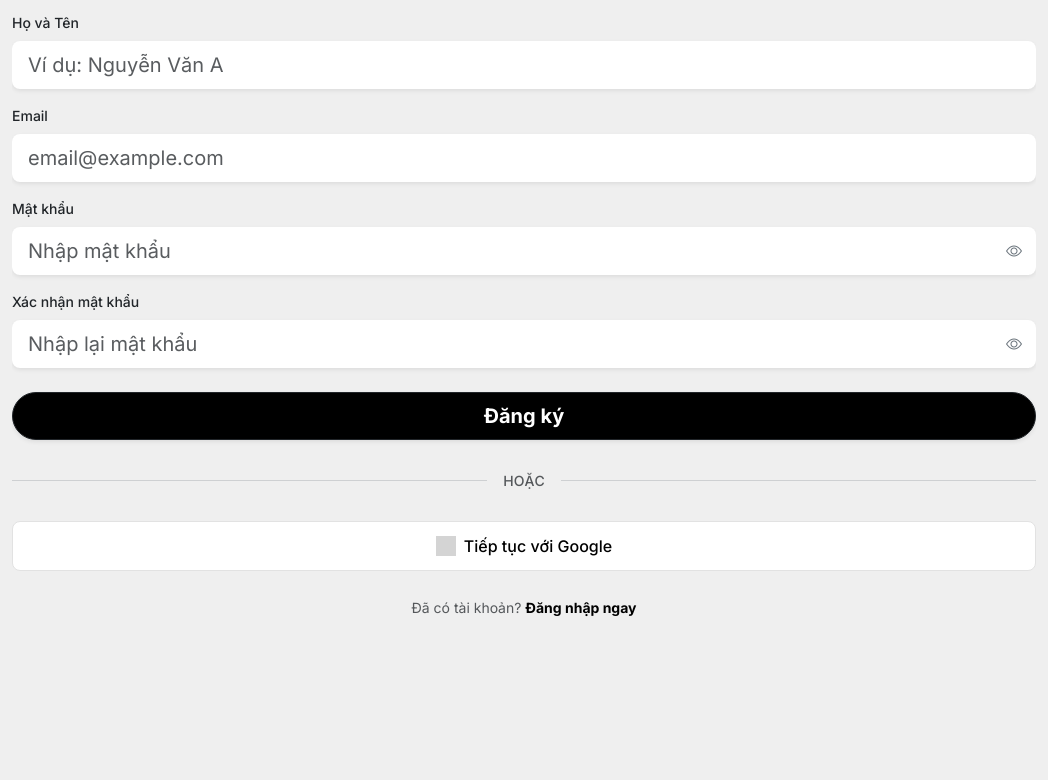
Scenario: RegisterForm Component › handles registration failure with generic error (AUTH_REG_001)
This screenshot has width=1048, height=780.
Type "Test User" into the field with test id "fullname-input" at (524, 65), box [12, 41, 1036, 89]
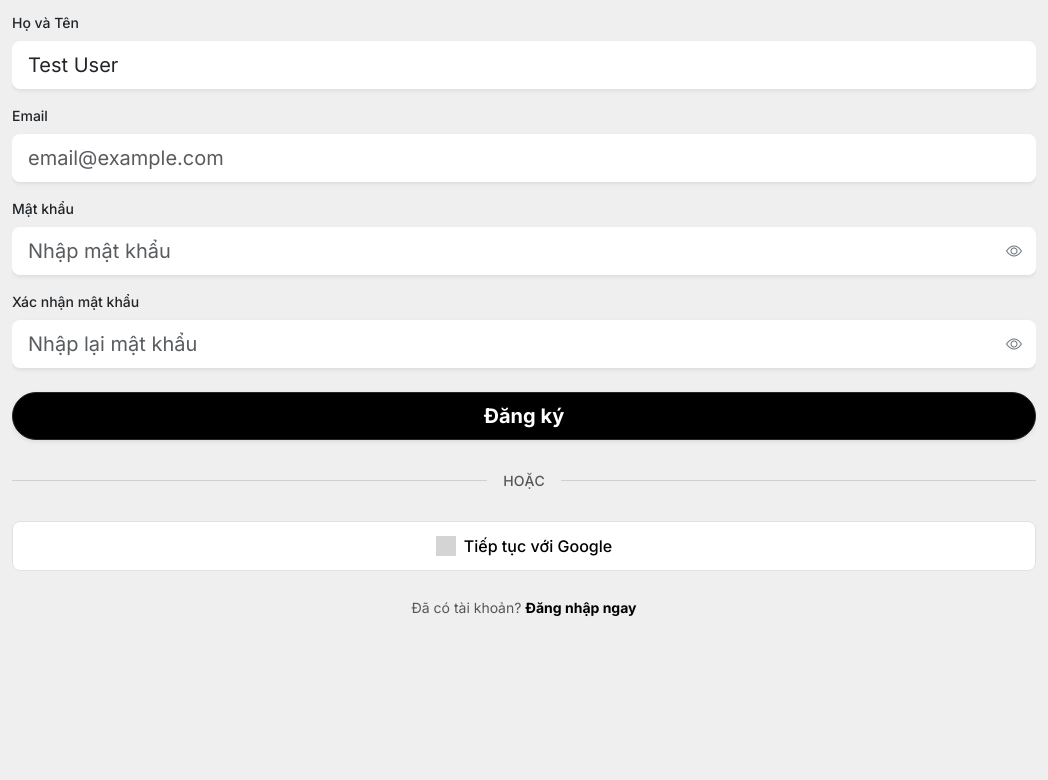
Type "test@example.com" into the field with test id "email-input" at (524, 158), box [12, 134, 1036, 182]
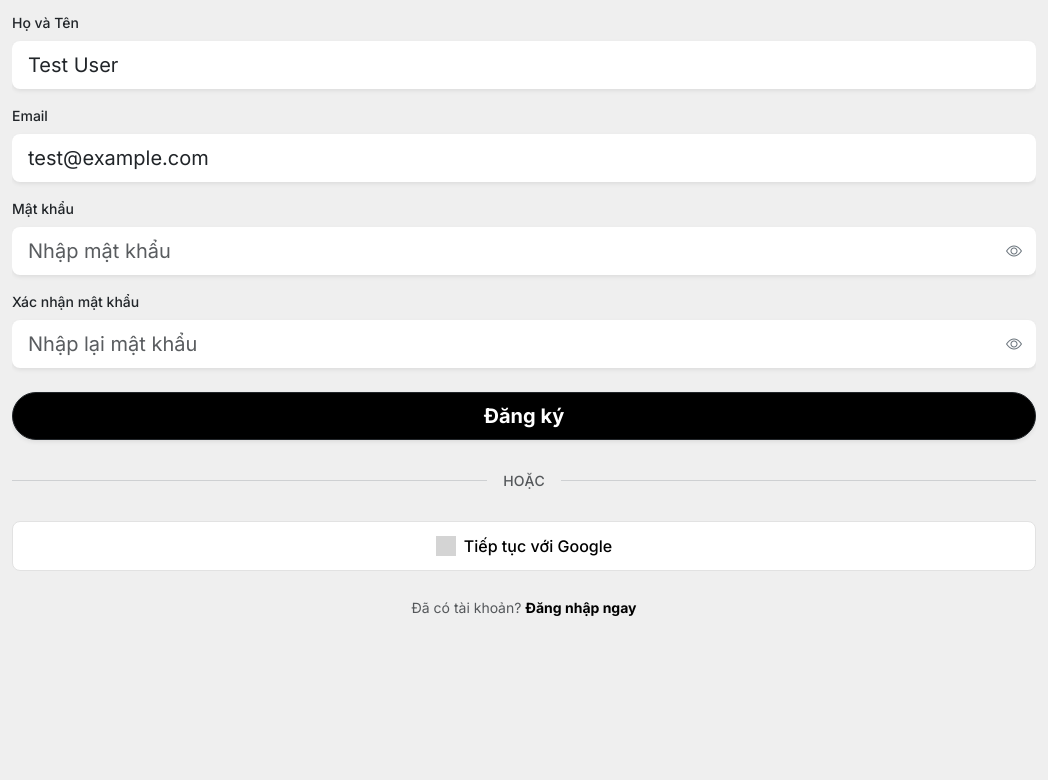
Type "secret123" into the password field with test id "password-input" at (524, 251), box [12, 227, 1036, 275]
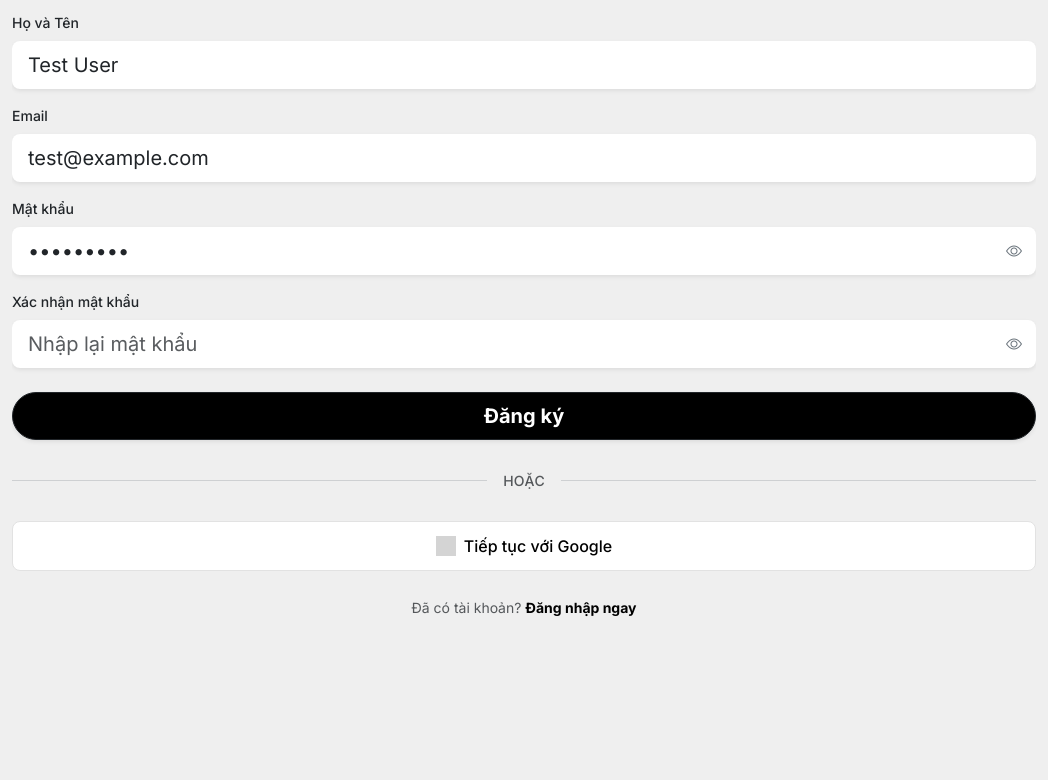
Type "secret123" into the password field with test id "confirm-password-input" at (524, 344), box [12, 320, 1036, 368]
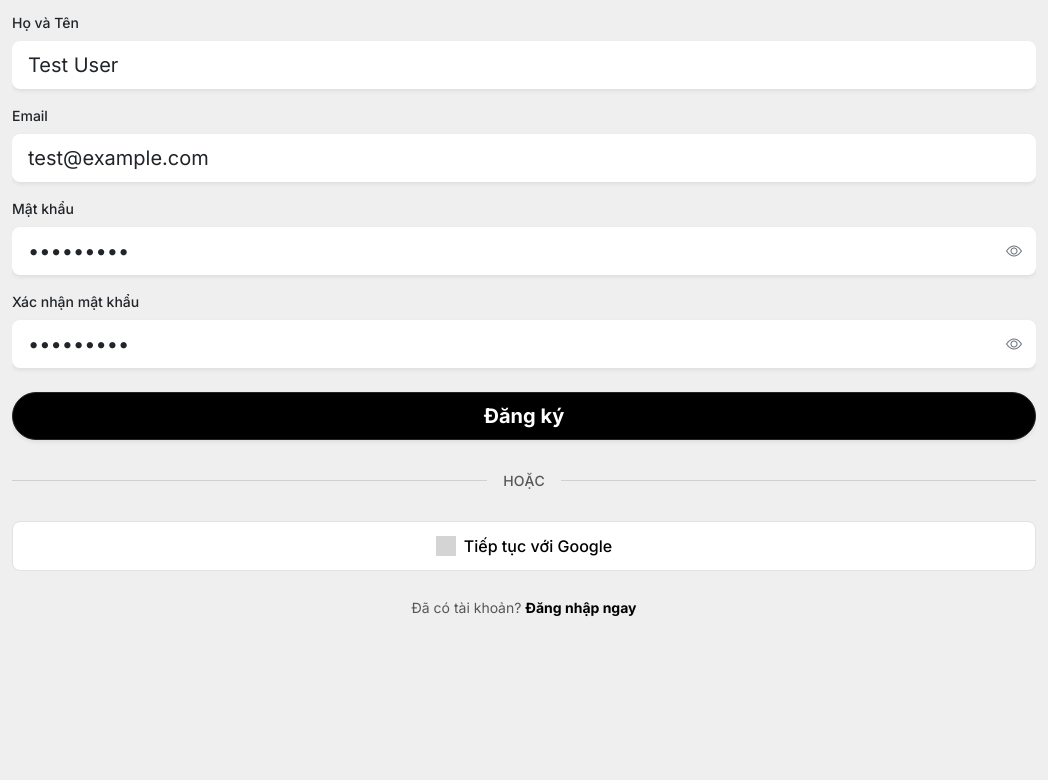
Click the button with test id "submit-btn" at (524, 416), box [12, 392, 1036, 440]
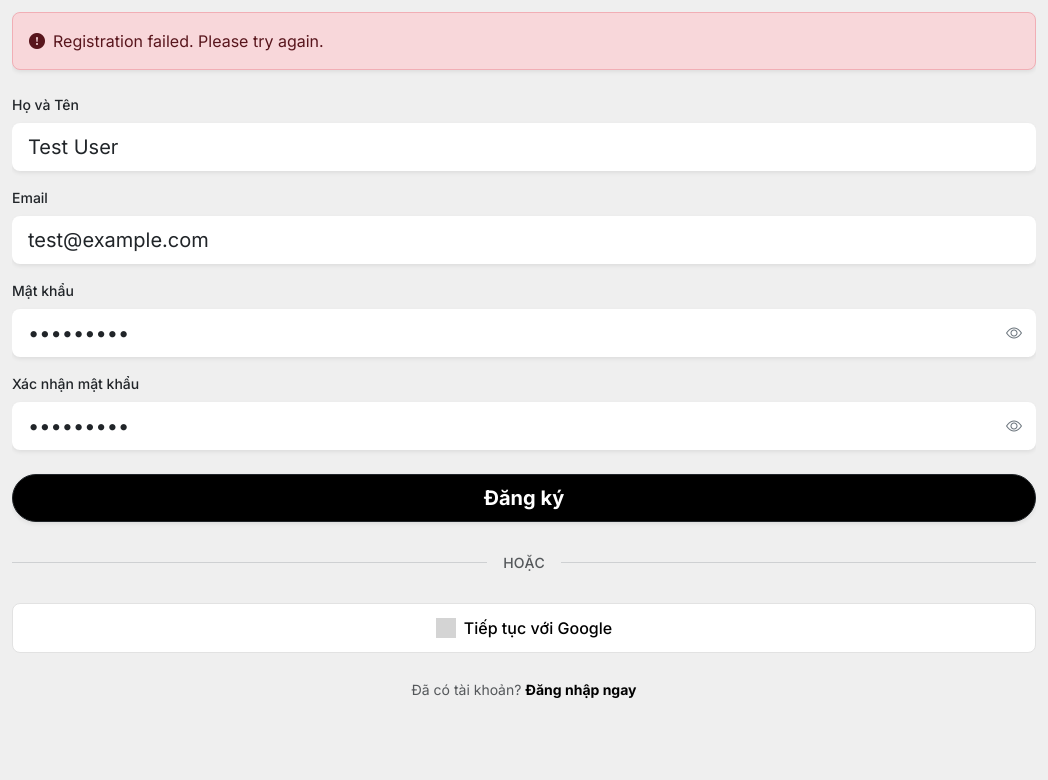
Expected: the message "Registration failed. Please try again." is shown, [12, 12, 1036, 70]
Expected: the message with test id "error-alert" reads "Registration failed. Please try again.", [53, 31, 324, 51]
